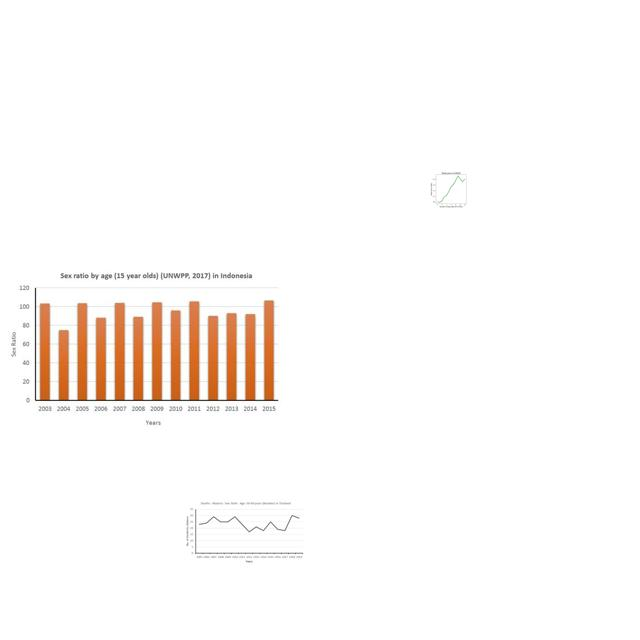Graph: (3, 262, 292, 431), (183, 499, 305, 564), (425, 170, 476, 208)
